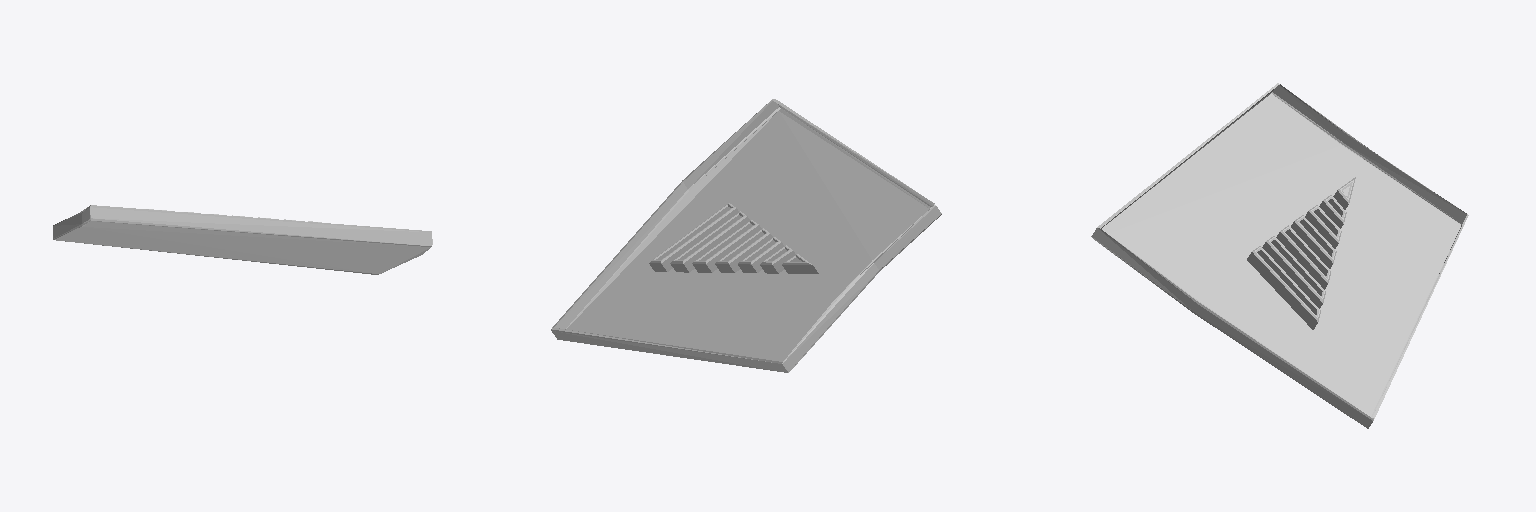
File: origin_1.obj
The picture shows the model from 3 angles: view 1: azimuth 30°, elevation 25°; view 2: azimuth 150°, elevation 25°; view 3: azimuth 270°, elevation 25°; orthographic projection.
Visible parts, largest first — view 1: Default; view 2: Default; view 3: Default.
Part boxes in pixels (bbox=[...]): Default: bbox=[53, 205, 432, 274]; Default: bbox=[551, 99, 941, 372]; Default: bbox=[1091, 83, 1468, 428].
Bounding box in the file's own units: 0.1988 × 0.1029 × 0.1911.